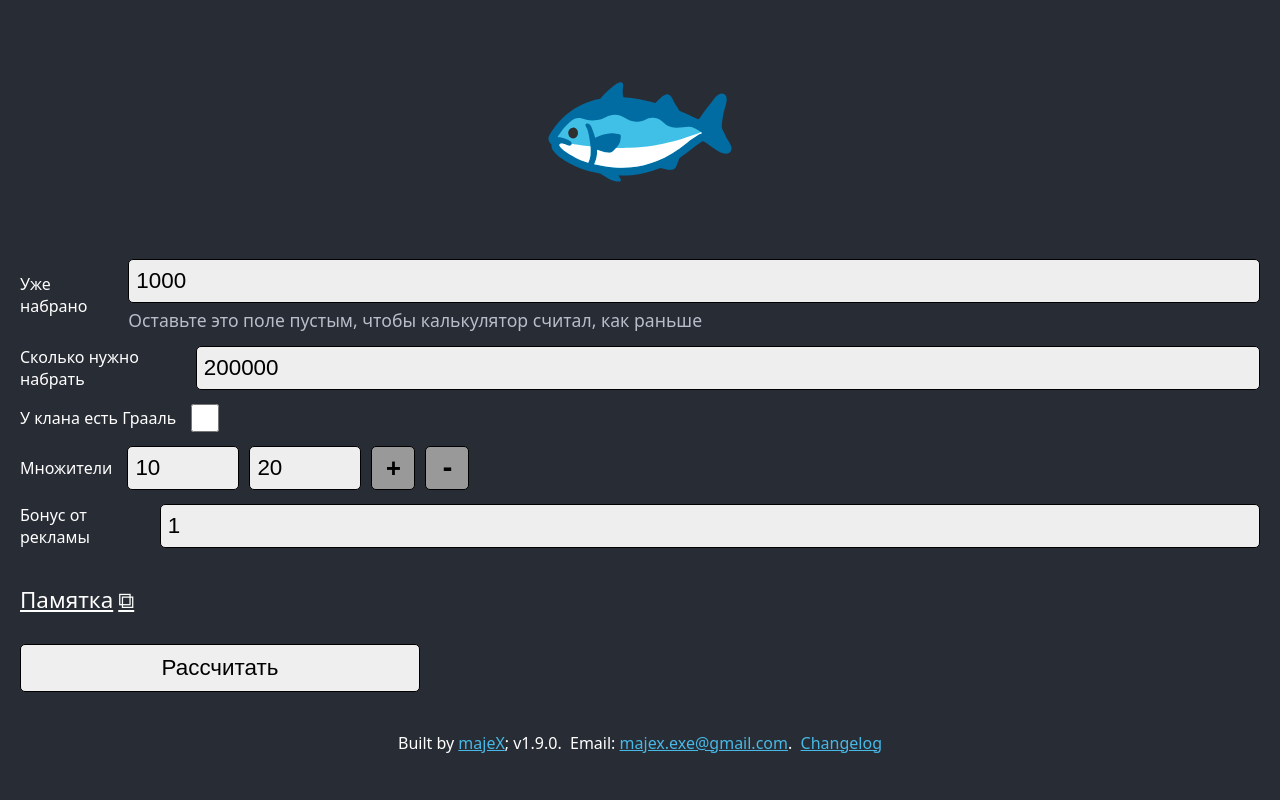
it: specific calculation case - 9605 target with 131,144 multipliers and 5 adBonus
# Input target points
Replace the text in the number field labelled "Сколько нужно набрать" with "9605": [728, 368] box [196, 346, 1260, 390]
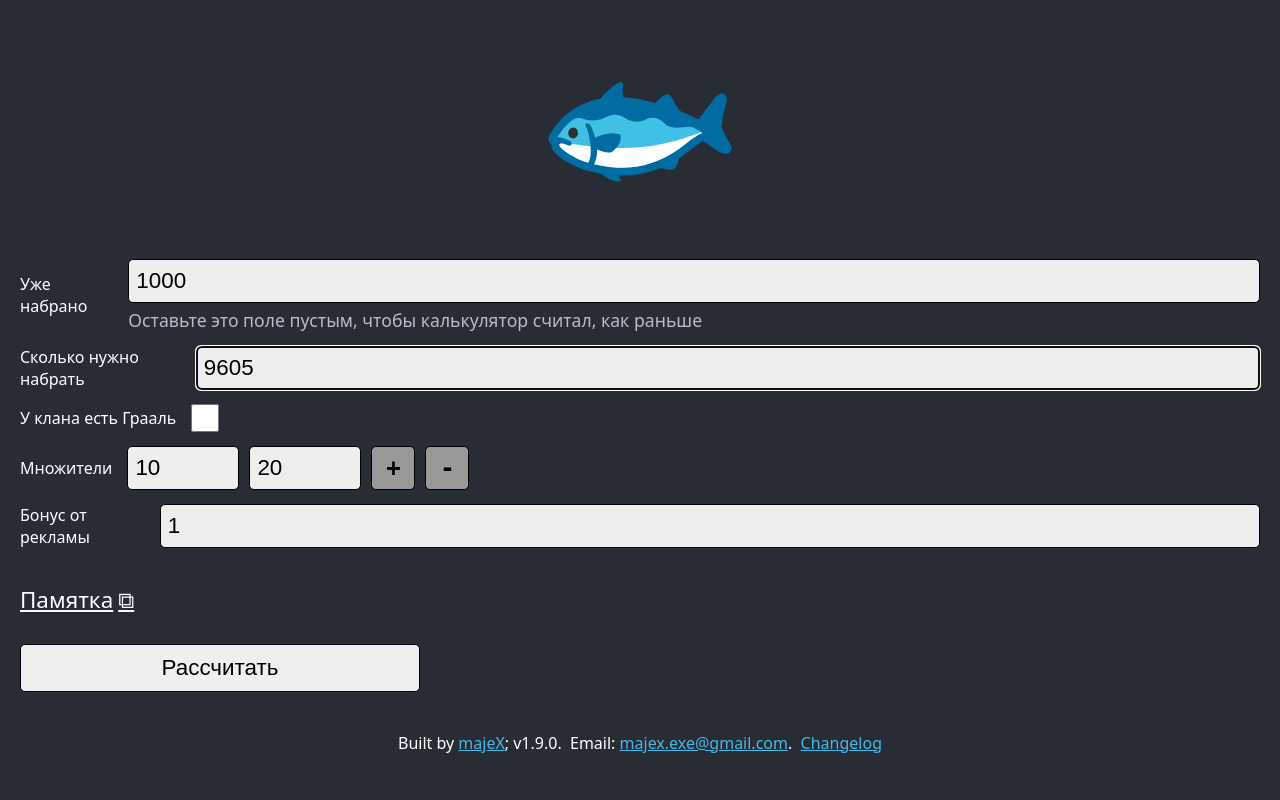
# Input multipliers
Replace the text in the number field named "Множитель 1" with "131": [183, 468] box [127, 446, 239, 490]
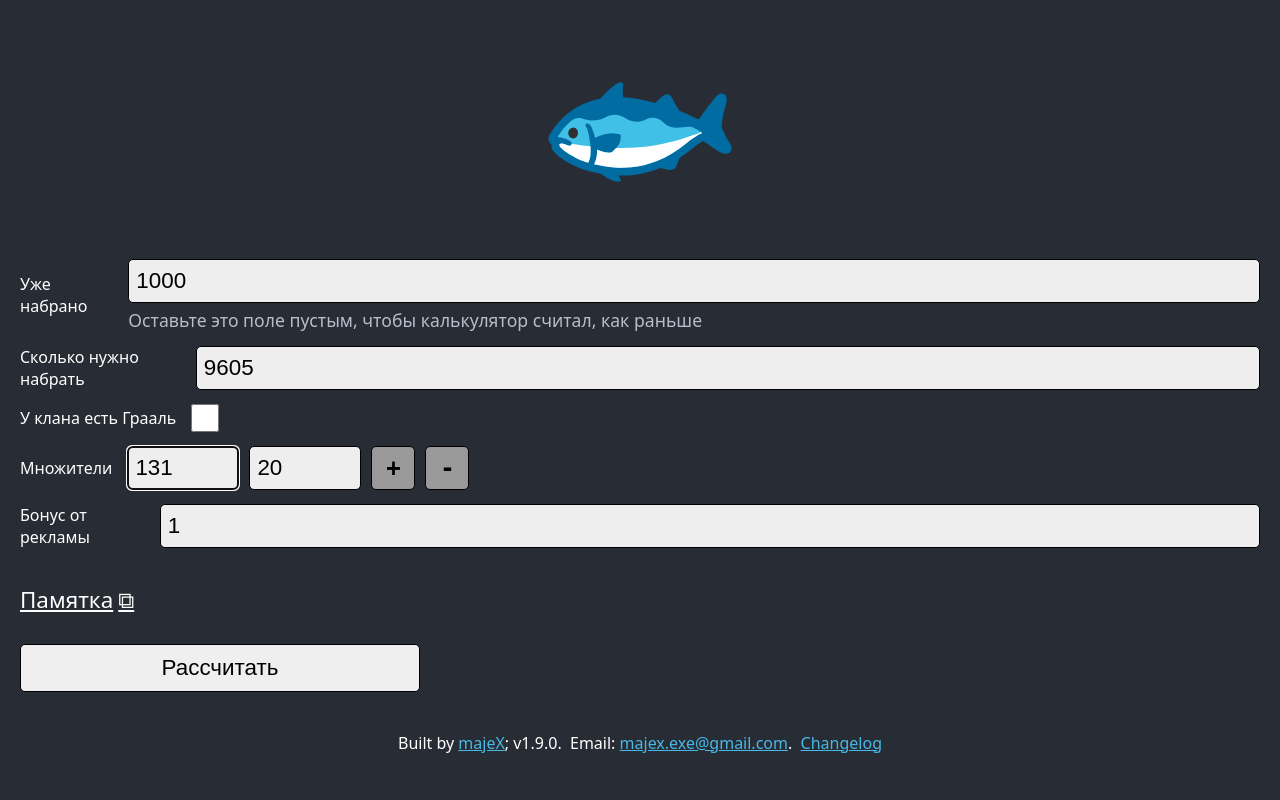
# Add second multiplier
Click the button "+": [393, 468] box [371, 446, 415, 490]
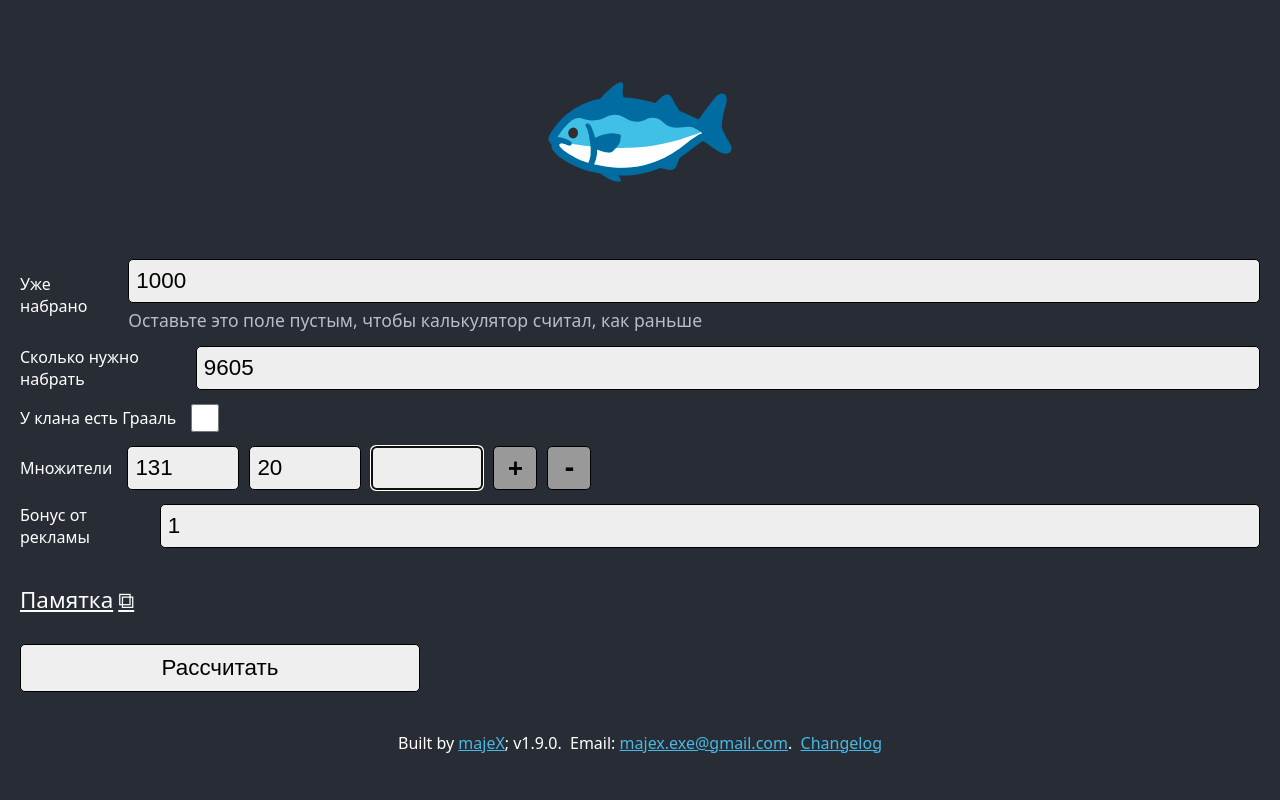
Replace the text in the number field named "Множитель 2" with "144": [305, 468] box [249, 446, 361, 490]
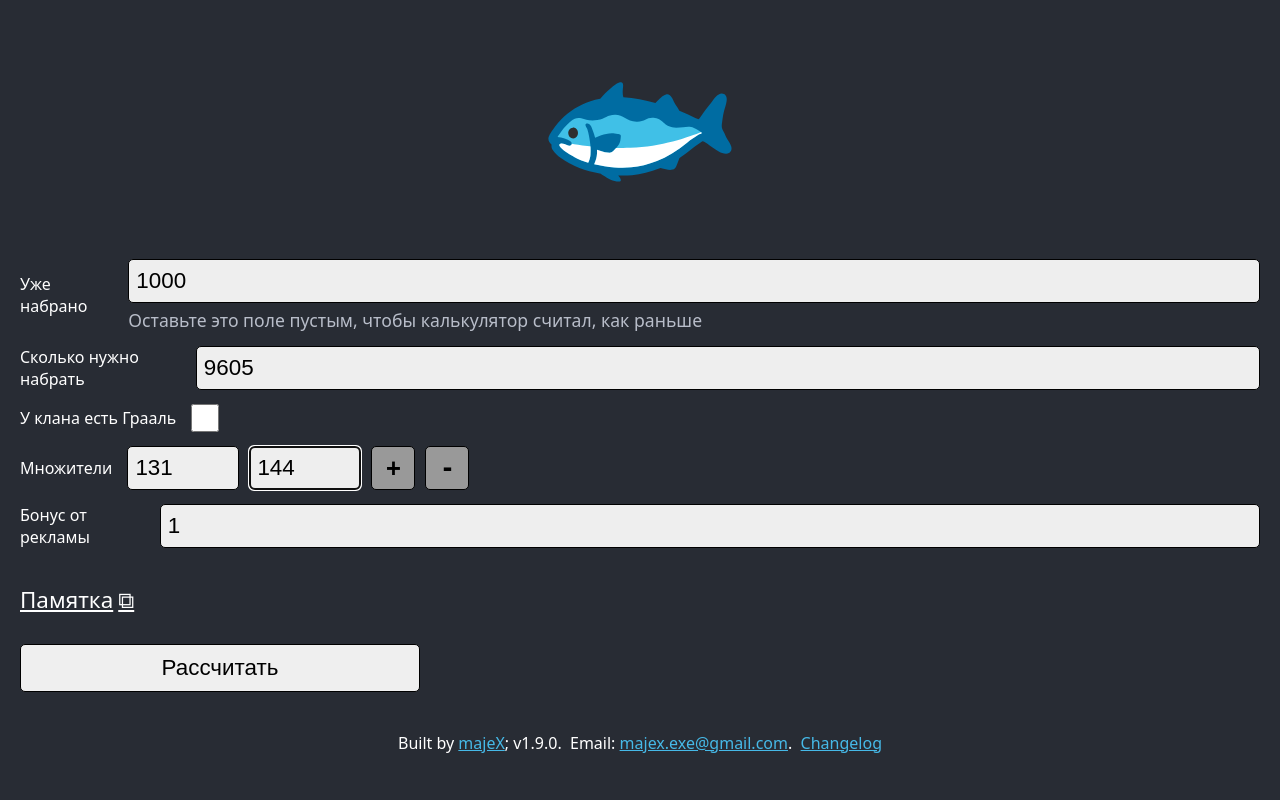
# Input ad bonus
Replace the text in the number field labelled "Бонус от рекламы" with "5": [710, 526] box [160, 504, 1260, 548]
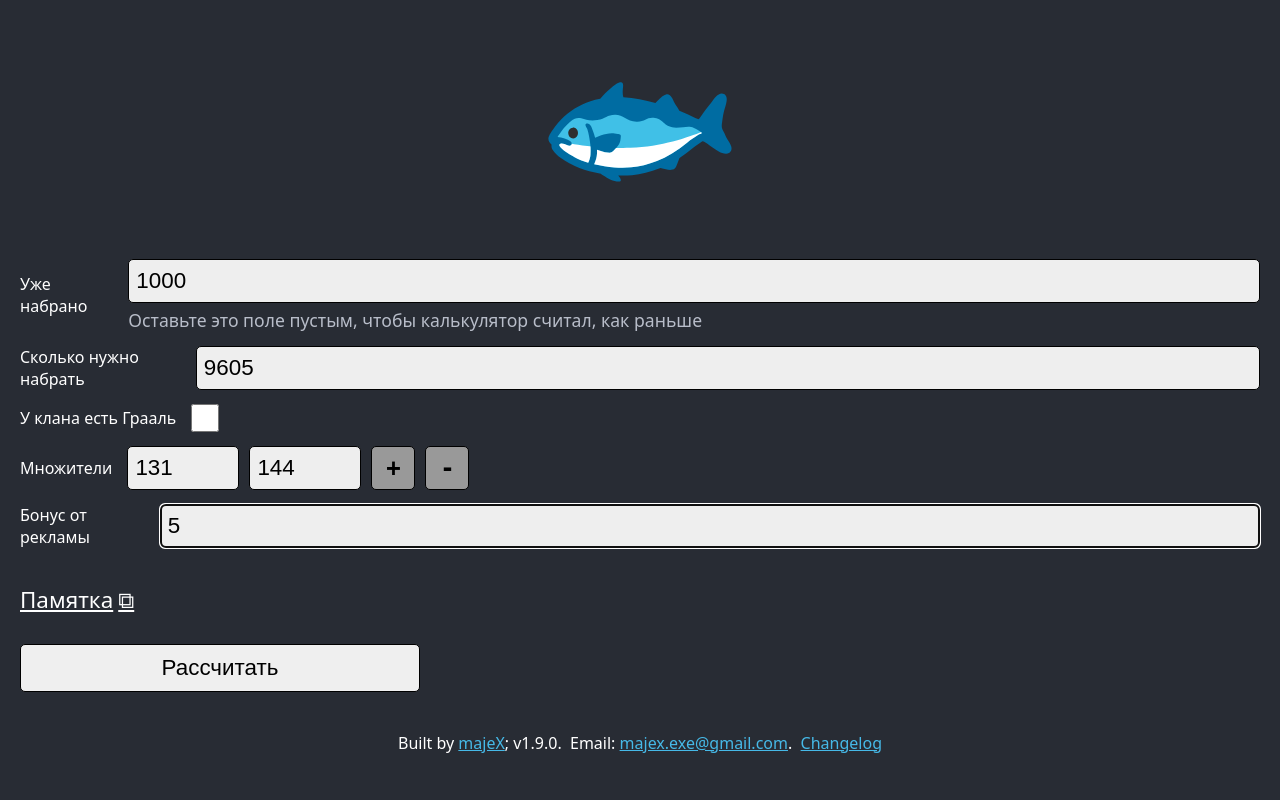
# Click calculate
Click the button "Рассчитать": [220, 668] box [20, 644, 420, 692]
(page scrolled)
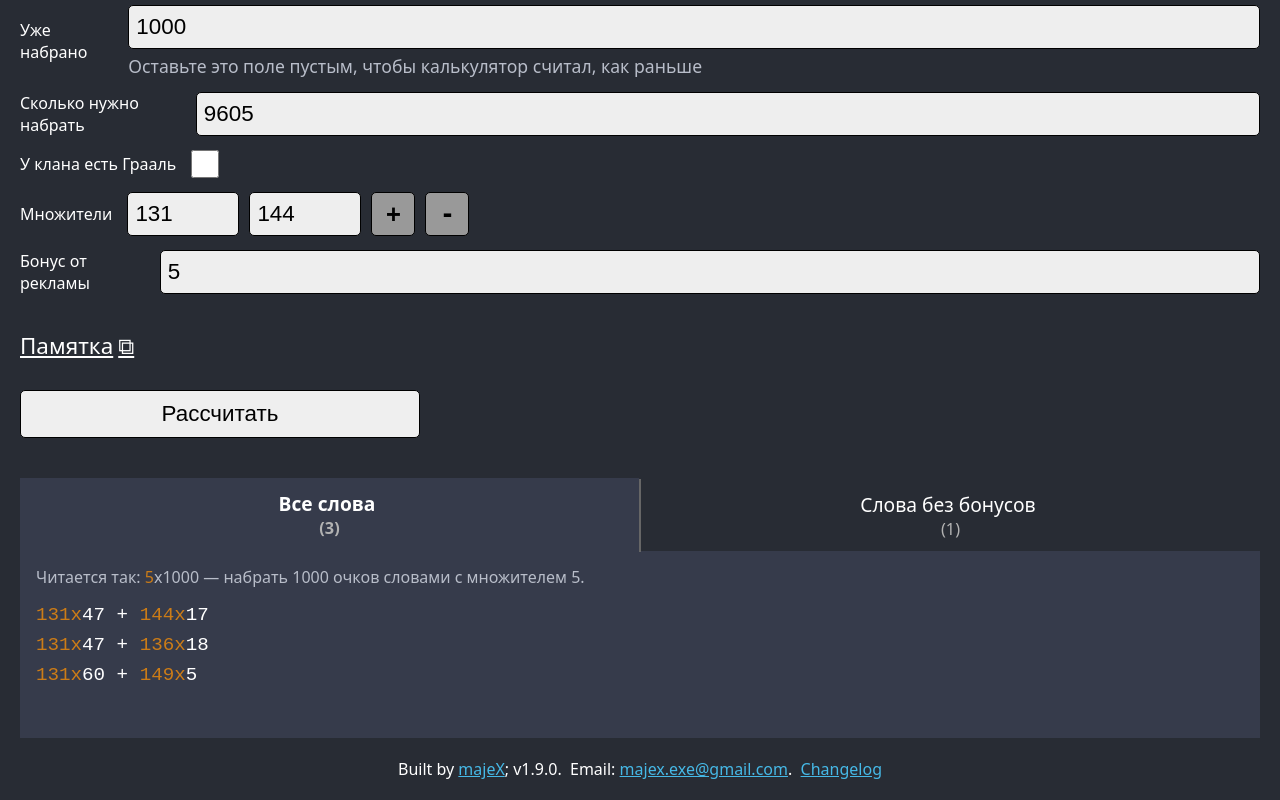
Result: the text "131x" in the row of "144" is shown at [36, 604, 82, 626]
Result: the text "144x" is shown at [140, 604, 186, 626]
Result: the text "136x" is shown at [140, 634, 186, 656]
